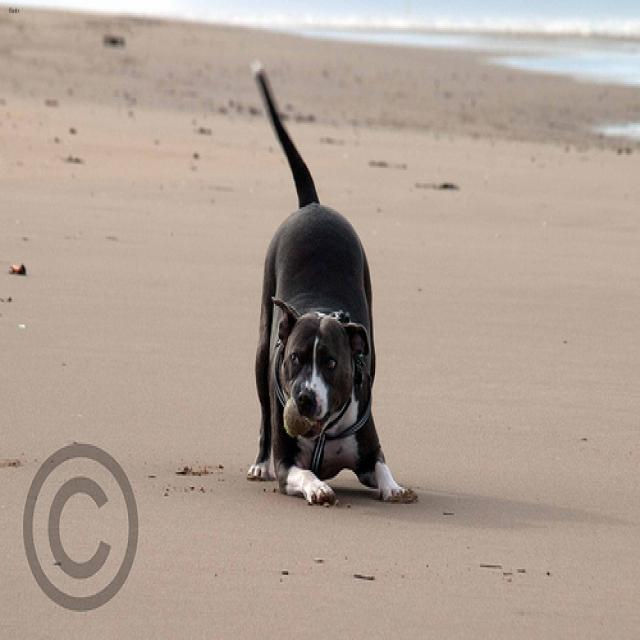dog-staffordshire_bull_terrier: (241, 56, 420, 515)
